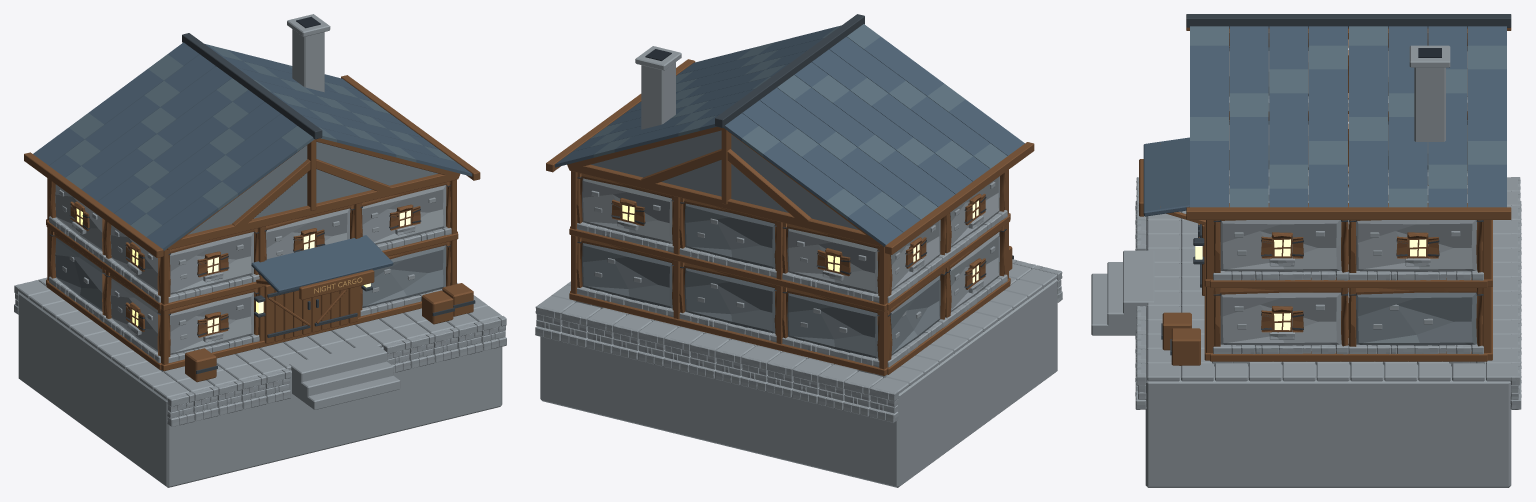
Rendered from stone_warehouse.glb.
3 views of the same model, side by side, from view 1: azimuth 30°, elevation 25°; view 2: azimuth 150°, elevation 25°; view 3: azimuth 270°, elevation 25° (orthographic). The views are drawn at different scales.
Parts seen in each view (by area): view 1: 04 Timber and roof, 01 Stone plinth and quay, 03 Upper floor, 02 Ground floor, 05 Loading doors and details; view 2: 04 Timber and roof, 01 Stone plinth and quay, 02 Ground floor, 03 Upper floor; view 3: 04 Timber and roof, 01 Stone plinth and quay, 02 Ground floor, 03 Upper floor, 05 Loading doors and details.
Boxes of the visible parts, left/top/right/bottom form: 04 Timber and roof: left=24, top=14, right=480, bottom=371; 01 Stone plinth and quay: left=14, top=277, right=506, bottom=487; 03 Upper floor: left=49, top=180, right=451, bottom=302; 02 Ground floor: left=49, top=230, right=450, bottom=362; 05 Loading doors and details: left=185, top=235, right=475, bottom=382; 04 Timber and roof: left=546, top=14, right=1034, bottom=375; 01 Stone plinth and quay: left=535, top=259, right=1062, bottom=487; 02 Ground floor: left=576, top=225, right=1007, bottom=367; 03 Upper floor: left=576, top=173, right=1007, bottom=302; 04 Timber and roof: left=1160, top=14, right=1511, bottom=361; 01 Stone plinth and quay: left=1091, top=177, right=1521, bottom=487; 02 Ground floor: left=1213, top=114, right=1483, bottom=354; 03 Upper floor: left=1213, top=39, right=1483, bottom=280; 05 Loading doors and details: left=1139, top=137, right=1205, bottom=365.
Size of the model in its own units: 10.5 by 9.52 by 9.53.
